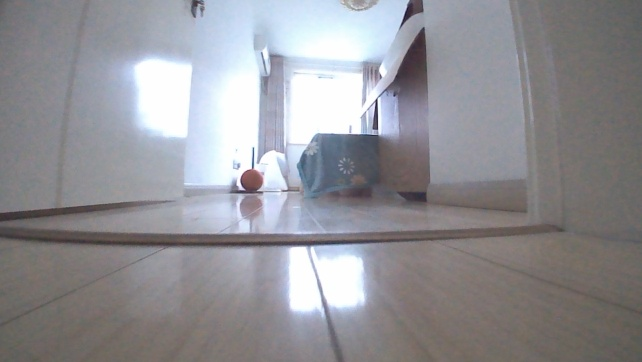bed1: (292, 130, 378, 198)
door_anno: (0, 0, 210, 217)
